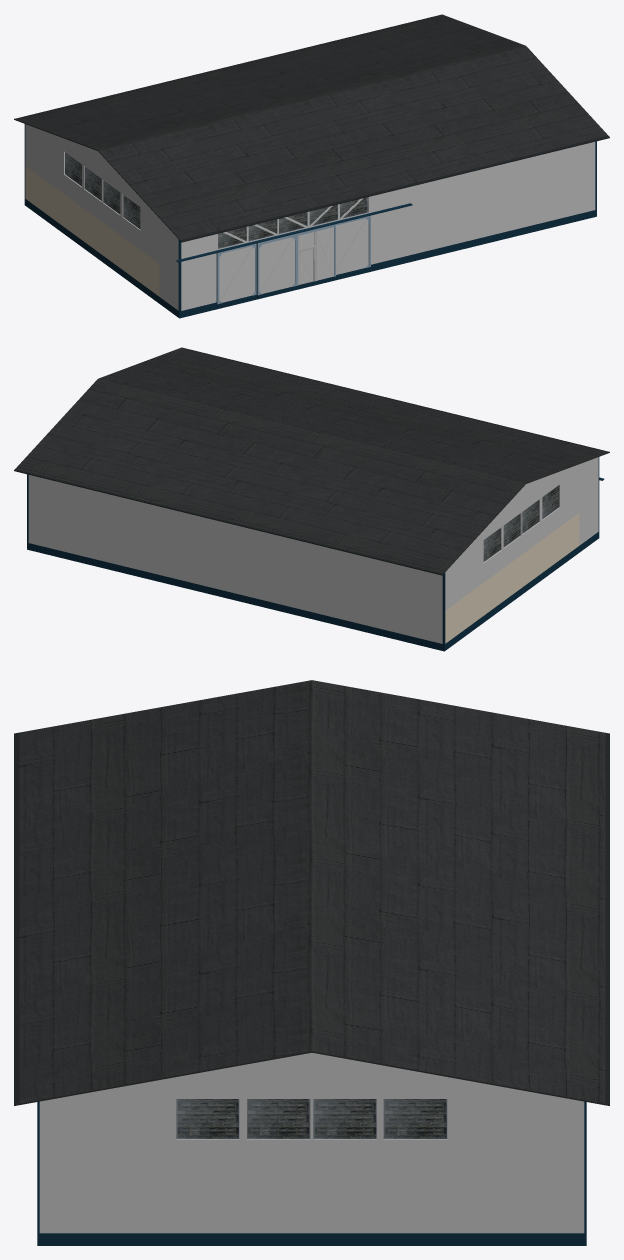
Rendered from edap-hangar-a_LOD01.gltf.
3 renders of one model, top to bottom at view 1: azimuth 30°, elevation 25°; view 2: azimuth 150°, elevation 25°; view 3: azimuth 270°, elevation 25°, orthographic. The views are drawn at different scales.
Parts seen in each view (by area): view 1: roof.001, walls.001, door CL.001, door LL.001, door CR.001, hangar windows.003, door RR.001, hangar windows.004, rust decal.001; view 2: roof.001, walls.001, hangar windows.004; view 3: roof.001, walls.001, hangar windows.005.
Boxes of the visible parts, x1=… form: roof.001: x1=14, y1=14, x2=609, y2=242; walls.001: x1=24, y1=124, x2=596, y2=318; door CL.001: x1=256, y1=234, x2=296, y2=297; door LL.001: x1=216, y1=243, x2=256, y2=306; door CR.001: x1=296, y1=224, x2=335, y2=288; hangar windows.003: x1=218, y1=197, x2=368, y2=248; door RR.001: x1=336, y1=215, x2=370, y2=277; hangar windows.004: x1=65, y1=152, x2=140, y2=228; rust decal.001: x1=217, y1=197, x2=369, y2=250; roof.001: x1=14, y1=347, x2=609, y2=575; walls.001: x1=27, y1=457, x2=604, y2=651; hangar windows.004: x1=483, y1=485, x2=559, y2=561; roof.001: x1=14, y1=680, x2=609, y2=1105; walls.001: x1=37, y1=1053, x2=586, y2=1245; hangar windows.005: x1=176, y1=1099, x2=447, y2=1139.
Bounding box in the file's own units: 27.18 × 6.84 × 18.44.
